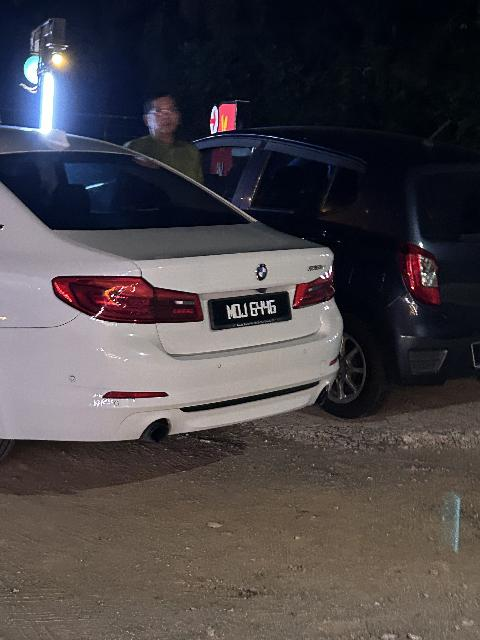License_Plate: (209, 292, 293, 336)
car: (2, 117, 353, 467)
